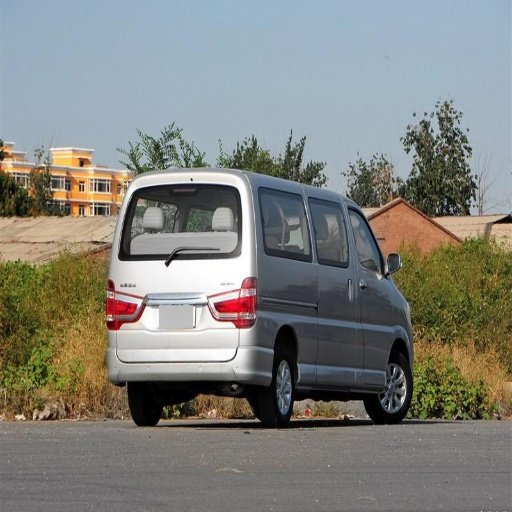back_bumper: (107, 328, 275, 380)
back_right_door: (315, 209, 356, 318)
trunk: (114, 261, 250, 360), (250, 266, 348, 348)
